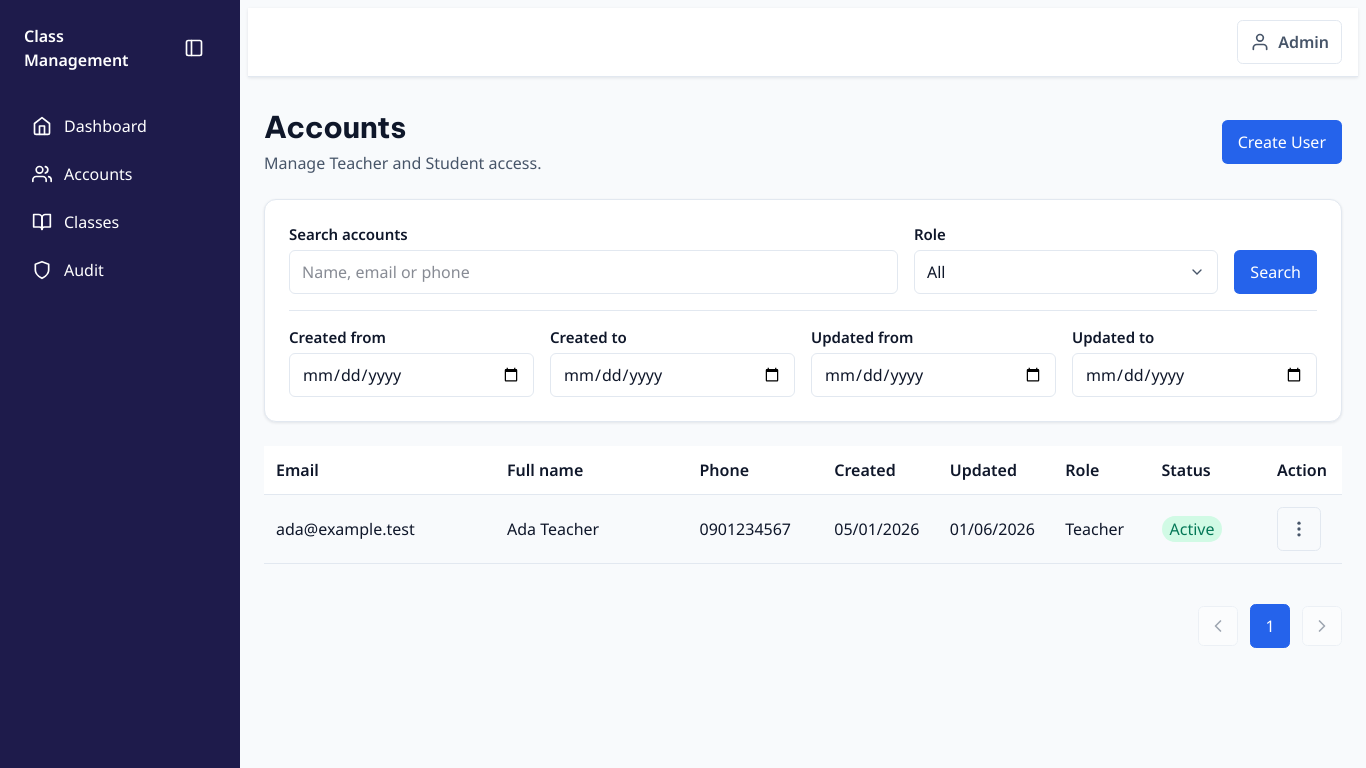
Admin accounts › keeps the confirmation open and displays an active-Class 422
Expected: the text "ada@example.test" is shown, x1=276 y1=518 x2=415 y2=540
Click the button named "Actions for ada@example.test".
click(1299, 529)  # box x1=1277 y1=507 x2=1321 y2=551
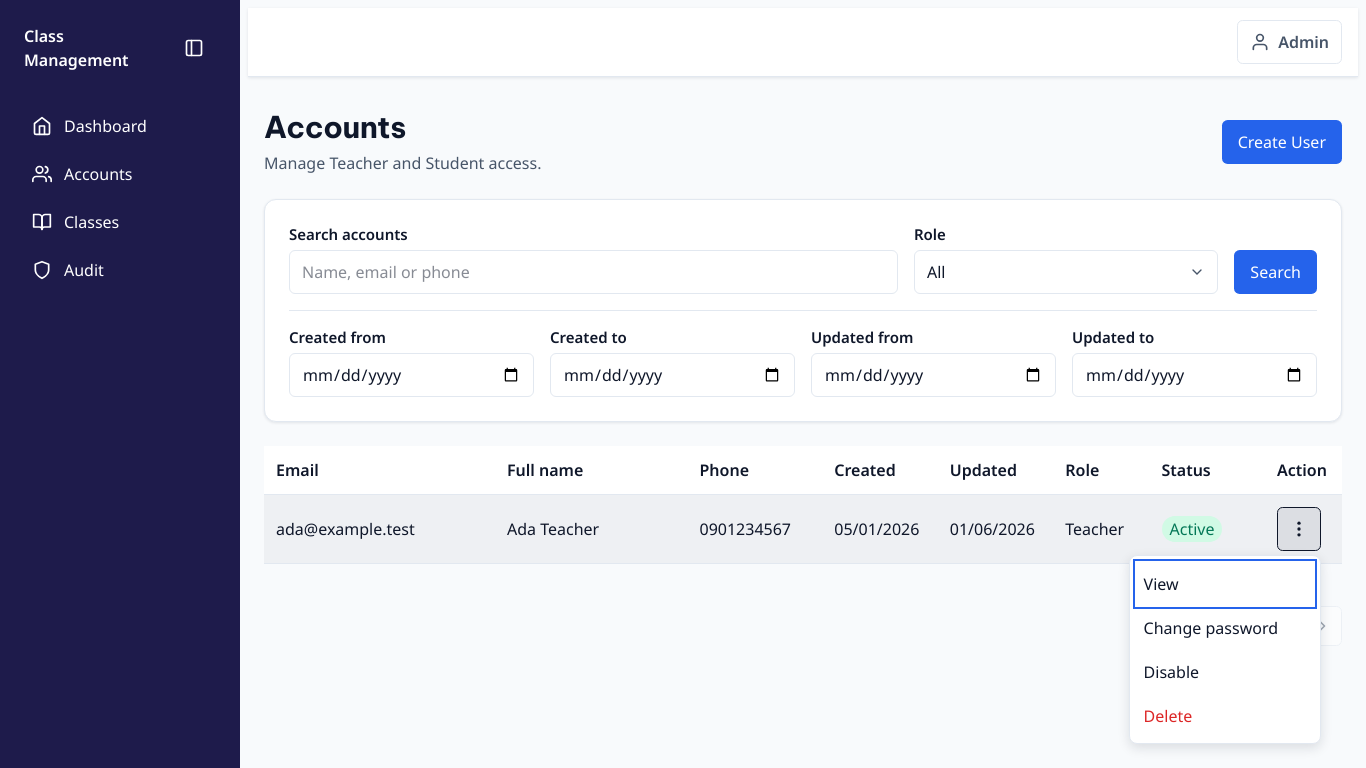
Click the menu item with aria-label "Disable ada@example.test".
click(1225, 672)  # box x1=1136 y1=650 x2=1314 y2=694
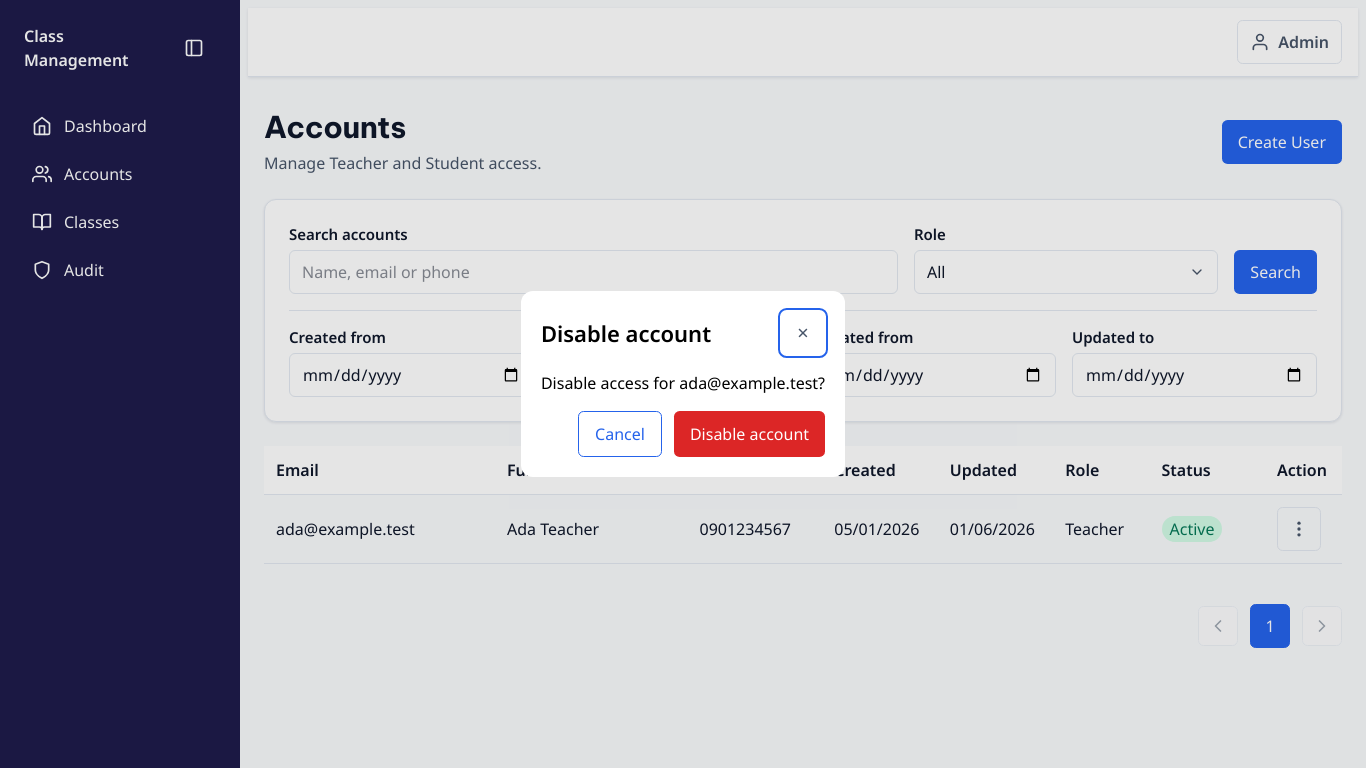
Click the button "Disable account".
click(750, 434)  # box x1=674 y1=411 x2=825 y2=457
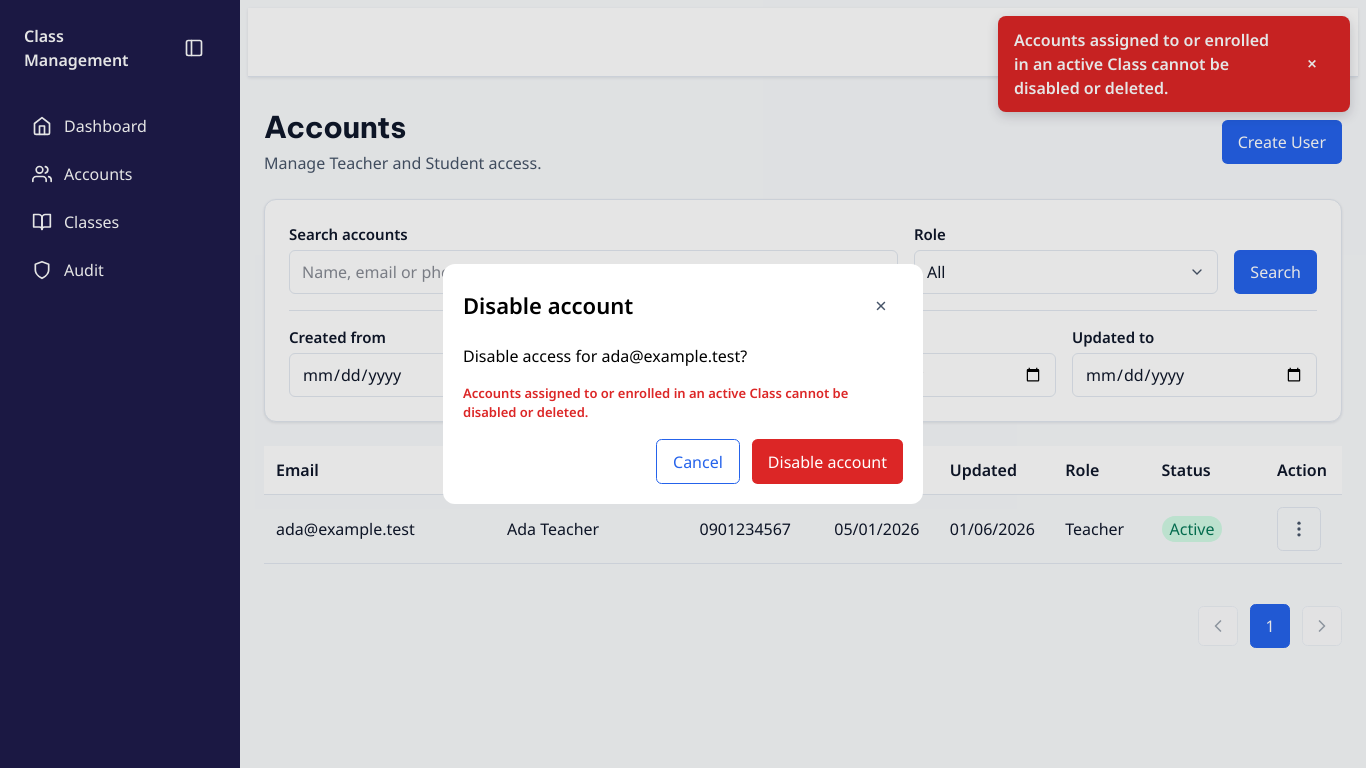
Now the dialog "Disable account" is shown, box x1=443 y1=264 x2=923 y2=504
Now the 2nd message shows "active Class", box x1=463 y1=384 x2=848 y2=421
